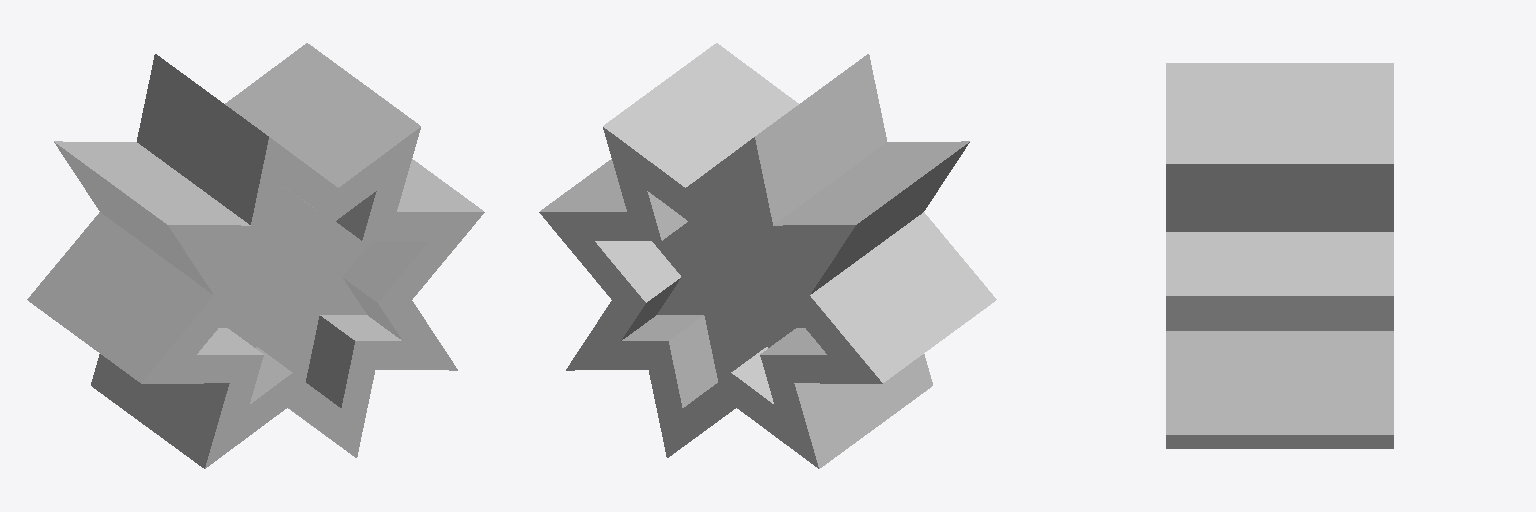
Rendered from star.obj.
3 views of the same model, side by side, from view 1: azimuth 30°, elevation 25°; view 2: azimuth 150°, elevation 25°; view 3: azimuth 270°, elevation 25° (orthographic).
Visible parts, largest first — view 1: Cube.003_Cube.004; view 2: Cube.003_Cube.004; view 3: Cube.003_Cube.004.
Part boxes in pixels (bbox=[...]): Cube.003_Cube.004: bbox=[27, 43, 484, 468]; Cube.003_Cube.004: bbox=[539, 43, 996, 468]; Cube.003_Cube.004: bbox=[1166, 63, 1393, 448].
Size of the model in its own units: 3.48 by 3.32 by 2.